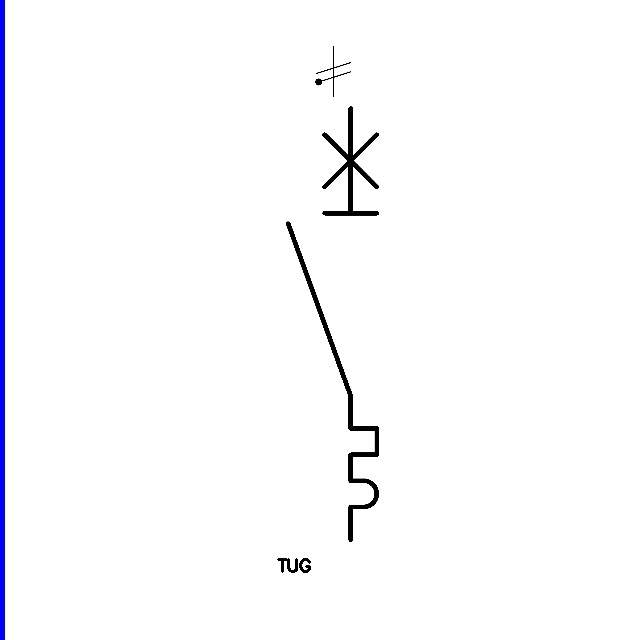interruptor_termomagnetico: (277, 97, 388, 551)
